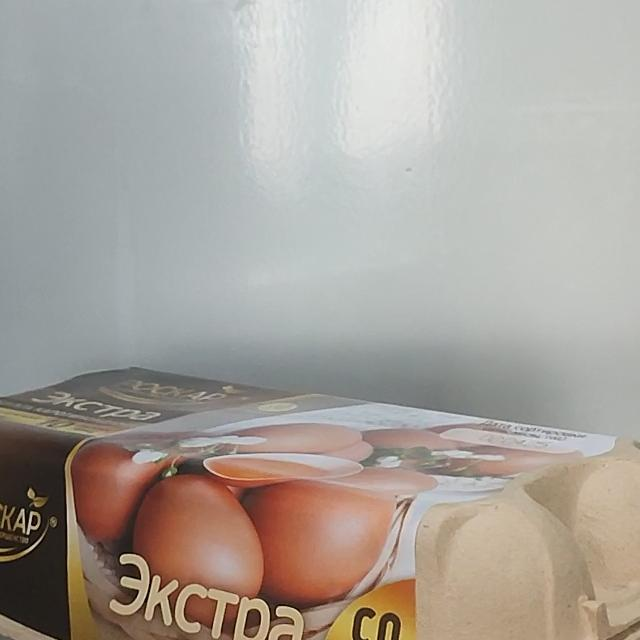egg: (0, 342, 640, 640)
